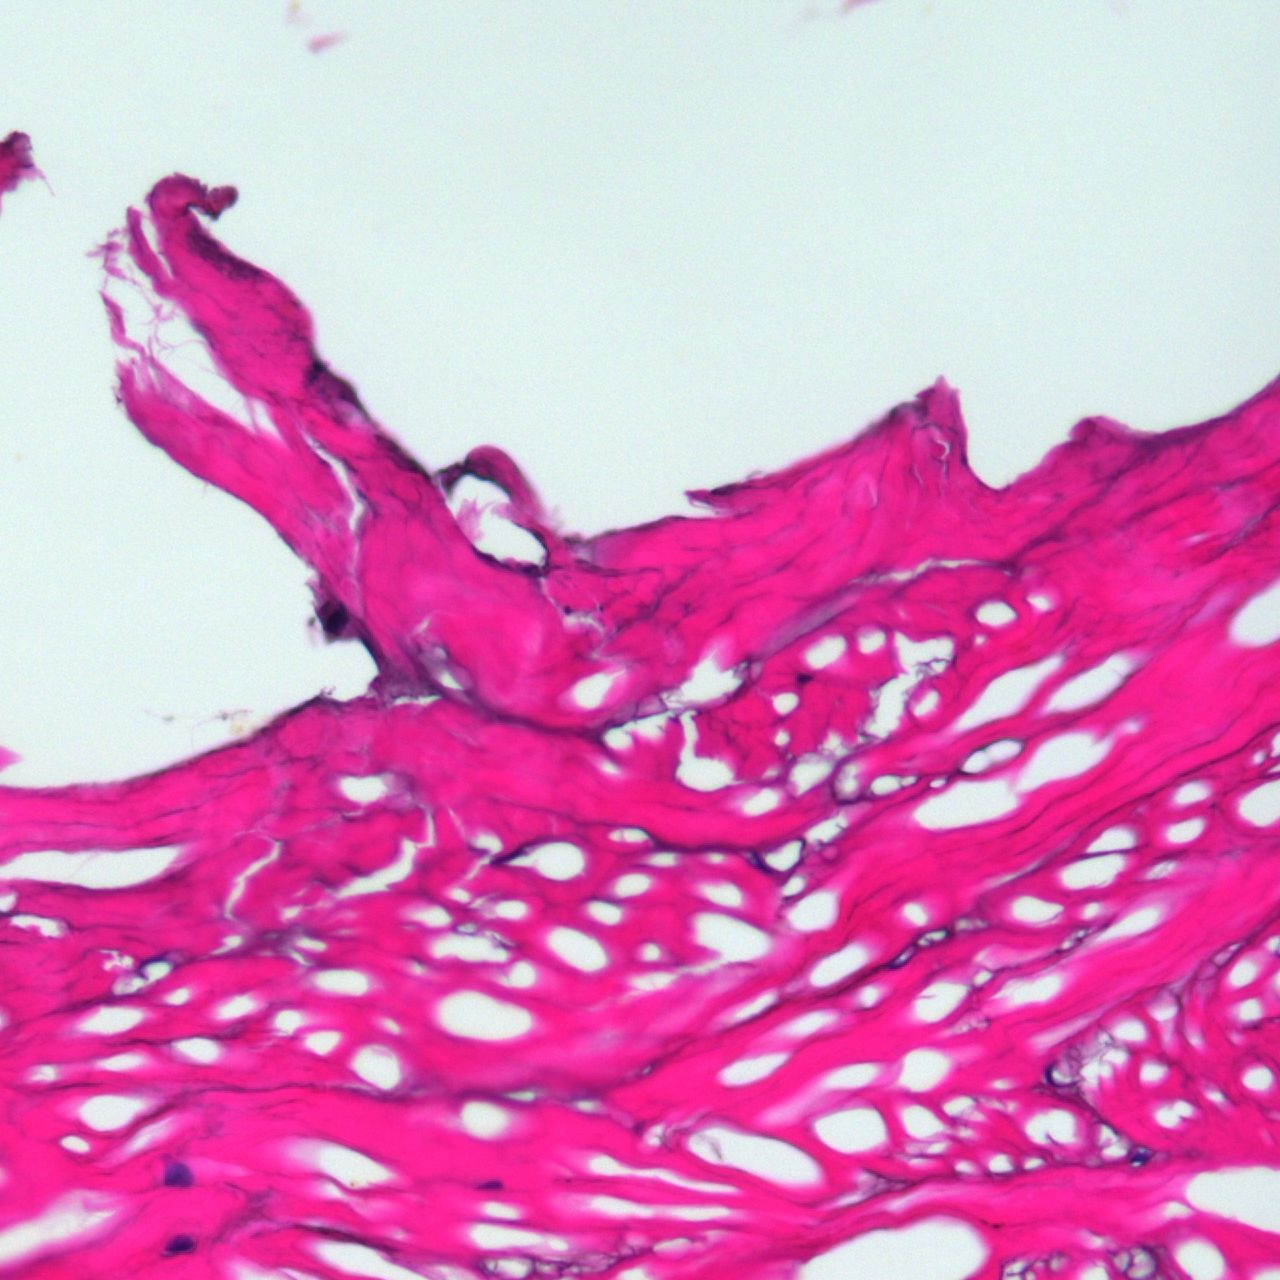dust: (229, 723, 242, 736), (921, 3, 932, 15)
nucleus-HE: (324, 604, 347, 635), (164, 1163, 190, 1187), (751, 853, 773, 877), (166, 1238, 192, 1251), (476, 1180, 502, 1189), (796, 674, 812, 682)
